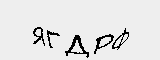Г: (45, 29, 60, 51)
Д: (64, 34, 88, 59)
Р: (92, 32, 113, 59)
Ф: (109, 28, 129, 54)
Я: (30, 25, 46, 49)
